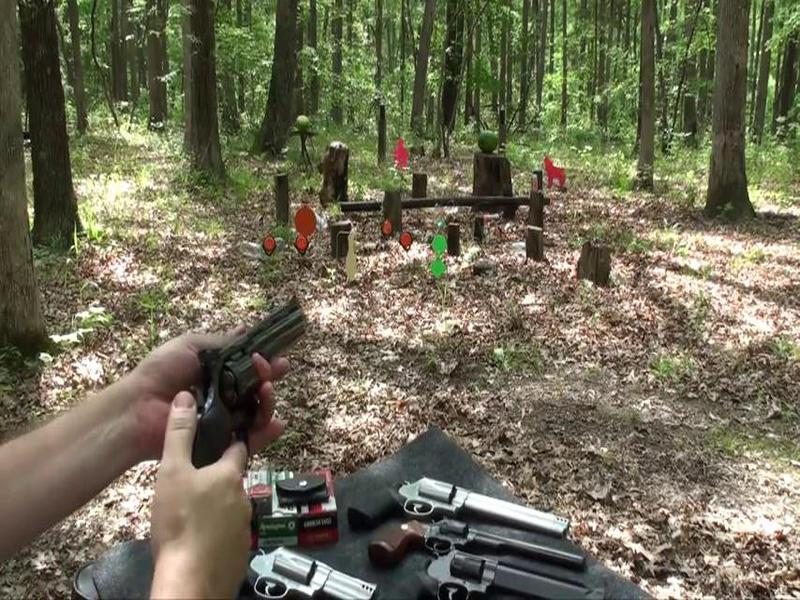Revolver: (176, 270, 307, 504)
